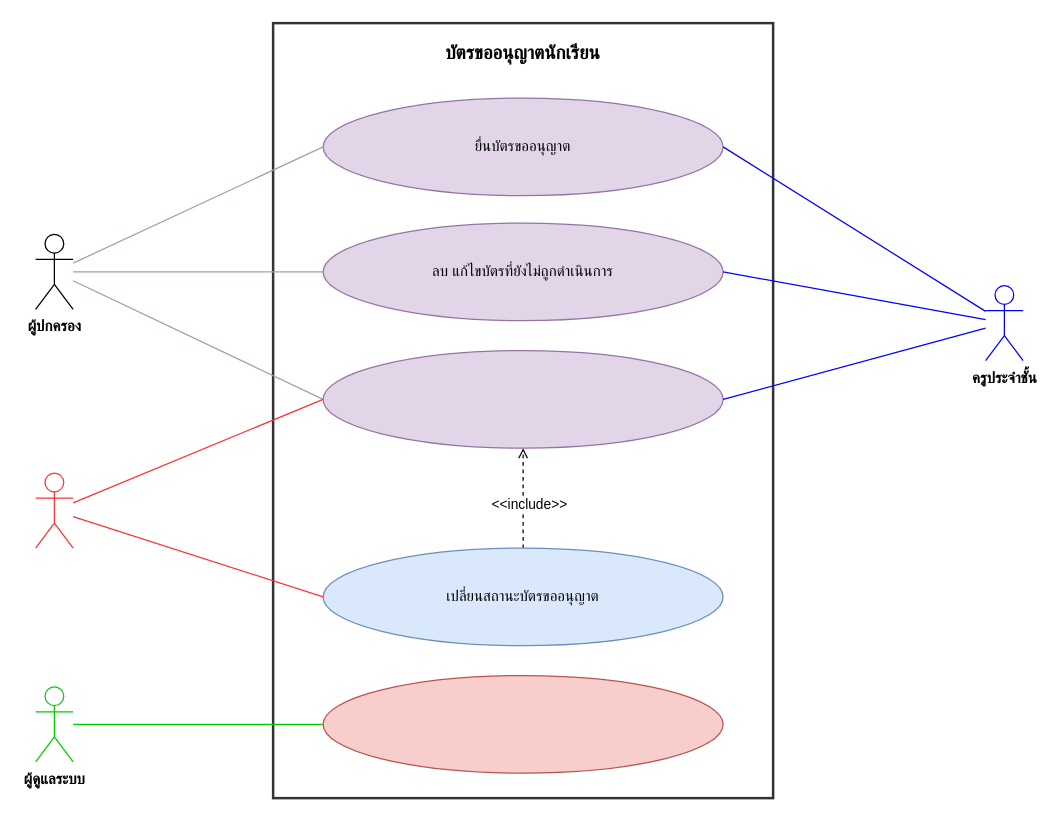
This 1059x820 diagram has some shape labels left out. Here are the shapes that lost their labels. From the top down, the centre of each, then its label:
At pixel 522 398: "ดูข้อมูลบัตรขออนุญาต".
At pixel 53 510: "ฝ่ายปกครอง".
At pixel 522 723: "ตั้งค่าระบบบัตรขออนุญาต".
